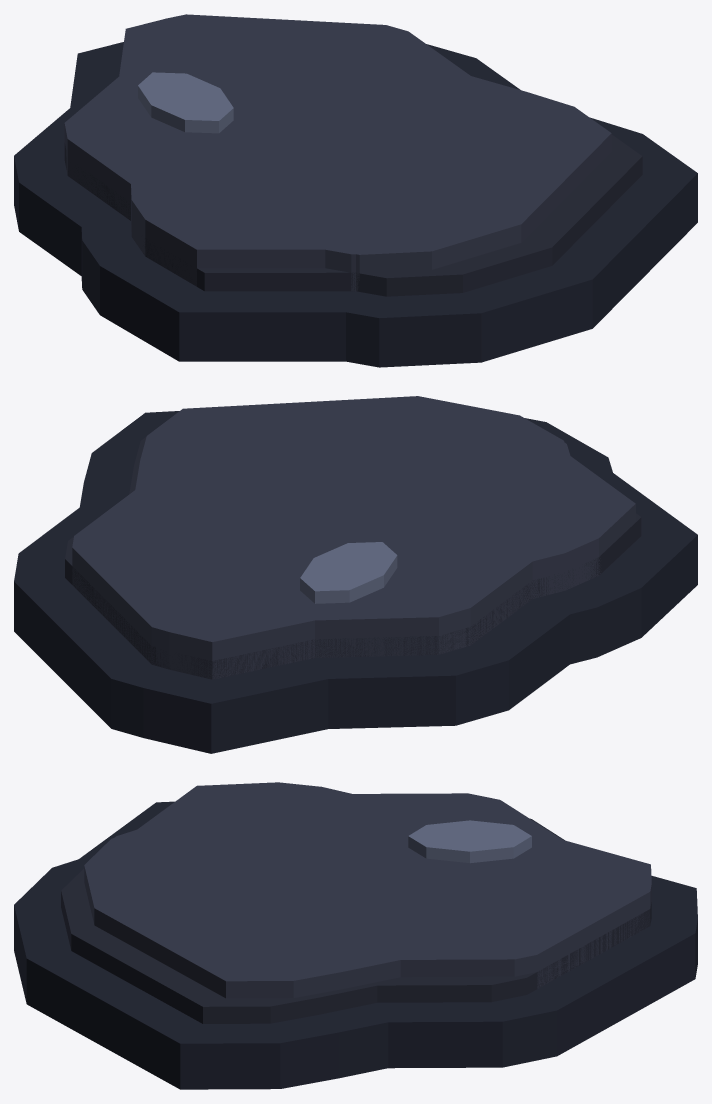
File: black_wolf_fur.fbx
3 renders of one model, top to bottom at view 1: azimuth 30°, elevation 25°; view 2: azimuth 150°, elevation 25°; view 3: azimuth 270°, elevation 25°, orthographic. The views are drawn at different scales.
Visible parts, largest first — view 1: black_wolf_fur; view 2: black_wolf_fur; view 3: black_wolf_fur.
Boxes of the visible parts, left/top/right/bottom form: black_wolf_fur: left=14, top=14, right=697, bottom=367; black_wolf_fur: left=14, top=396, right=697, bottom=753; black_wolf_fur: left=14, top=782, right=697, bottom=1089.
Size of the model in its own units: 0.9217 by 0.16 by 1.08.
1 material, 1 textured.
